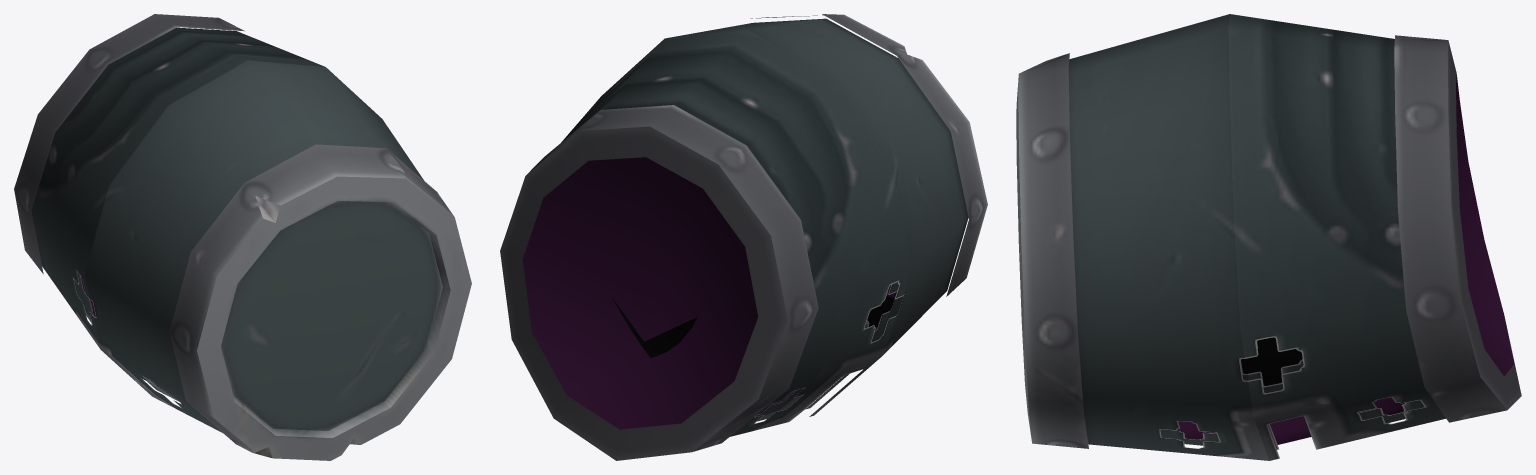
3 renders of one model, left to right at view 1: azimuth 30°, elevation 25°; view 2: azimuth 150°, elevation 25°; view 3: azimuth 270°, elevation 25°, orthographic. The views are drawn at different scales.
Parts seen in each view (by area): view 1: heaume.model-Mesh[0]; view 2: heaume.model-Mesh[0], face.part_model_face-Mesh[0]; view 3: heaume.model-Mesh[0], face.part_model_face-Mesh[0].
Boxes of the visible parts, <box> form: heaume.model-Mesh[0]: <box>14,14,471,460</box>; heaume.model-Mesh[0]: <box>500,14,987,460</box>; face.part_model_face-Mesh[0]: <box>612,296,894,358</box>; heaume.model-Mesh[0]: <box>1016,14,1521,460</box>; face.part_model_face-Mesh[0]: <box>1241,337,1302,385</box>.
Bounding box in the file's own units: 0.463 × 0.4982 × 0.5452.
2 materials, 2 textured.
